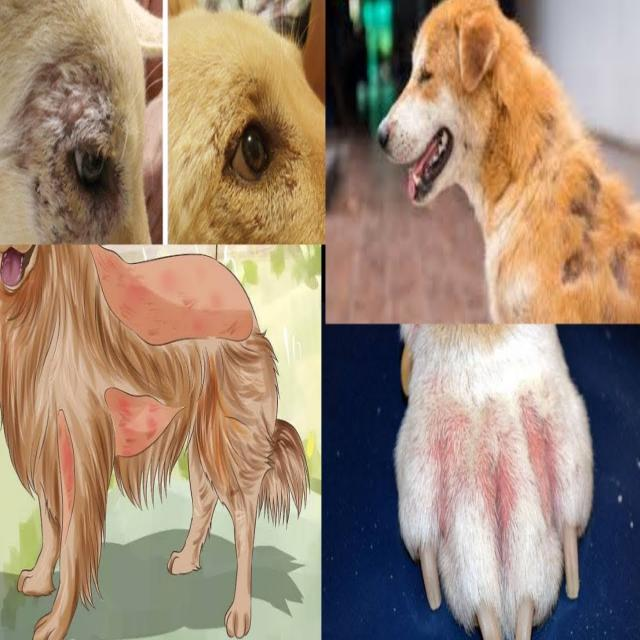allergic dermatitis: (428, 384, 477, 556), (469, 398, 526, 543), (508, 374, 565, 516), (31, 48, 116, 132)
